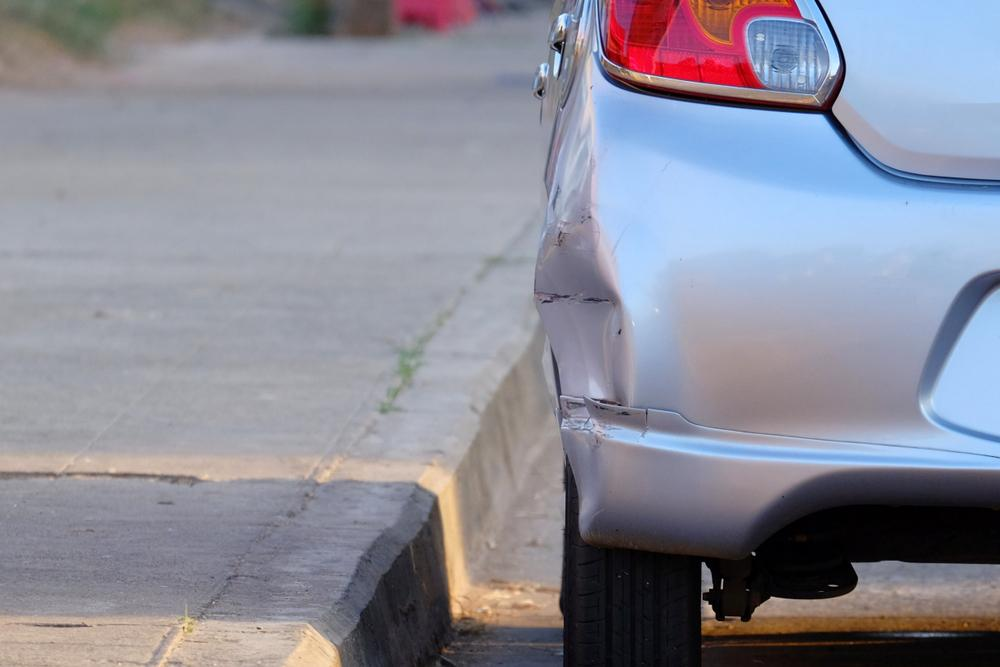dent: (531, 187, 633, 406)
